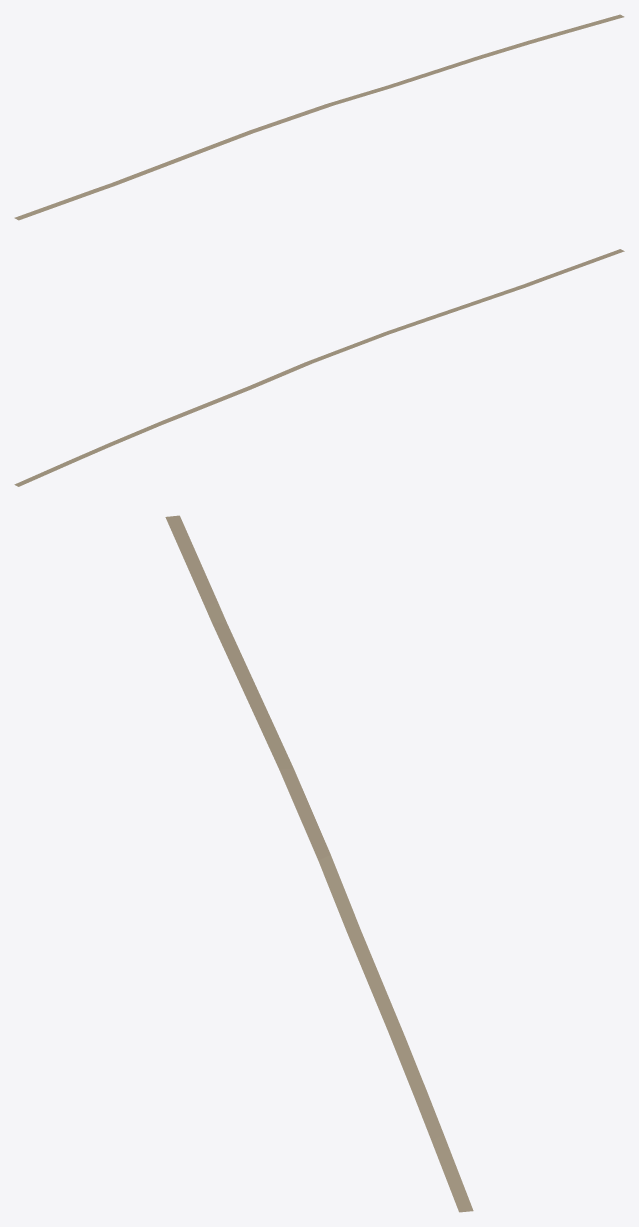
File: farm_14_23_track.glb
3 renders of one model, top to bottom at view 1: azimuth 30°, elevation 25°; view 2: azimuth 210°, elevation 25°; view 3: azimuth 270°, elevation 25°, orthographic. The views are drawn at different scales.
Visible parts, largest first — view 1: geometry_0; view 2: geometry_0; view 3: geometry_0.
Part boxes in pixels (box(x1,y1,x2,y2)): geometry_0: box(14, 14, 624, 220); geometry_0: box(14, 249, 624, 486); geometry_0: box(165, 515, 473, 1212).
Bounding box in the file's own units: 351 × 9.07 × 68.76.
